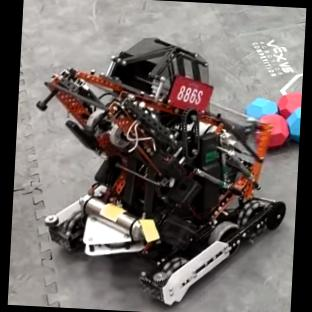Robot: (35, 37, 284, 304)
